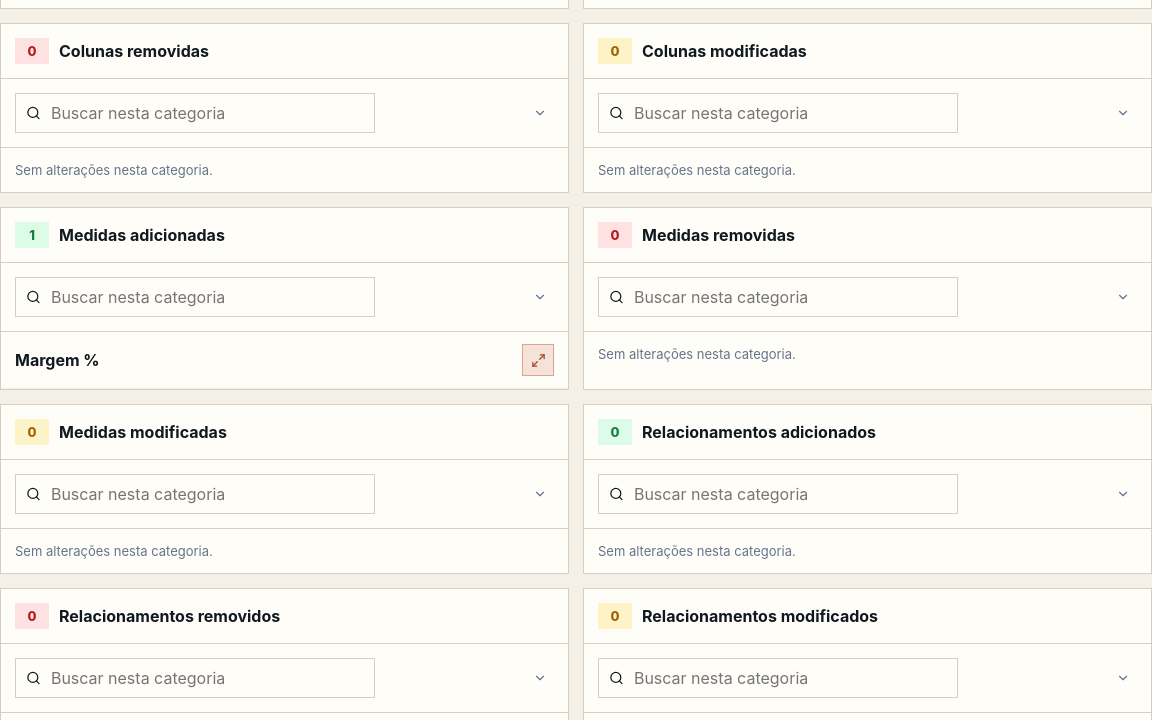
Test: CompareView › mostra somente o DAX da versão nova para medida adicionada
The image size is (1152, 720).
(page scrolled)
Expected: the list item "Margem %" is shown, x1=1 y1=332 x2=568 y2=389
Click the button named "expandir detalhe".
click(538, 360)  # box x1=522 y1=344 x2=554 y2=376
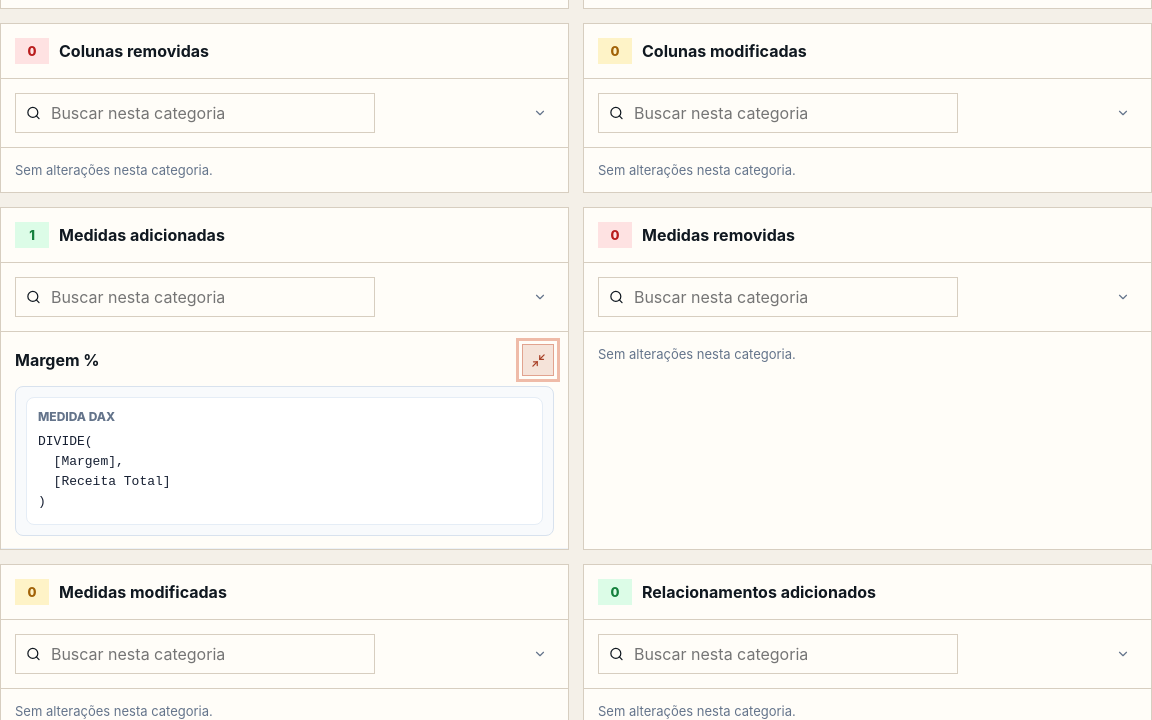
Expected: the text "Medida DAX" is shown, x1=38 y1=409 x2=115 y2=424
